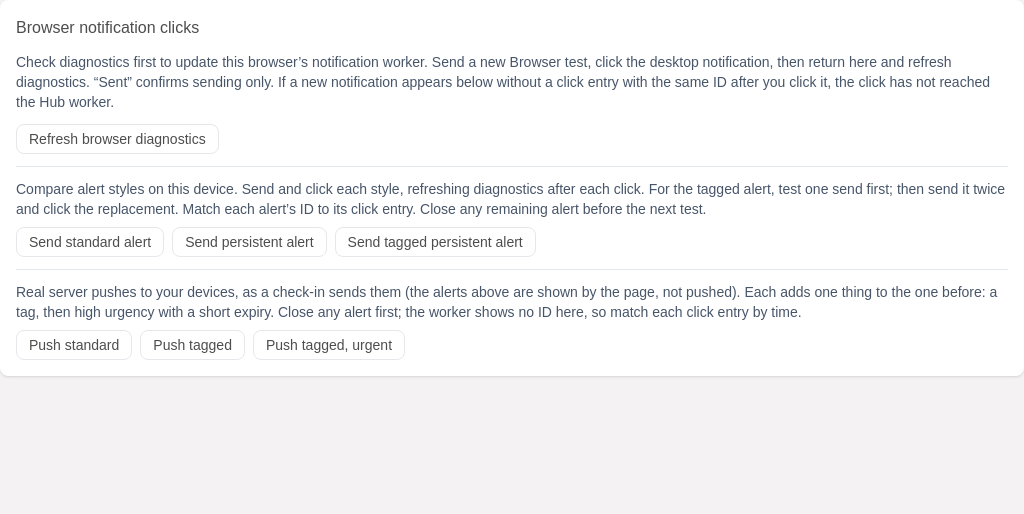
Test: BrowserPushDiagnostics › reports a failed comparison without leaving the previous alert ID on screen
The image size is (1024, 514).
What coordinates should you click on to do the following:
click the button "Send standard alert"
I would click on:
 (90, 242)
Its box is [16, 227, 164, 257].
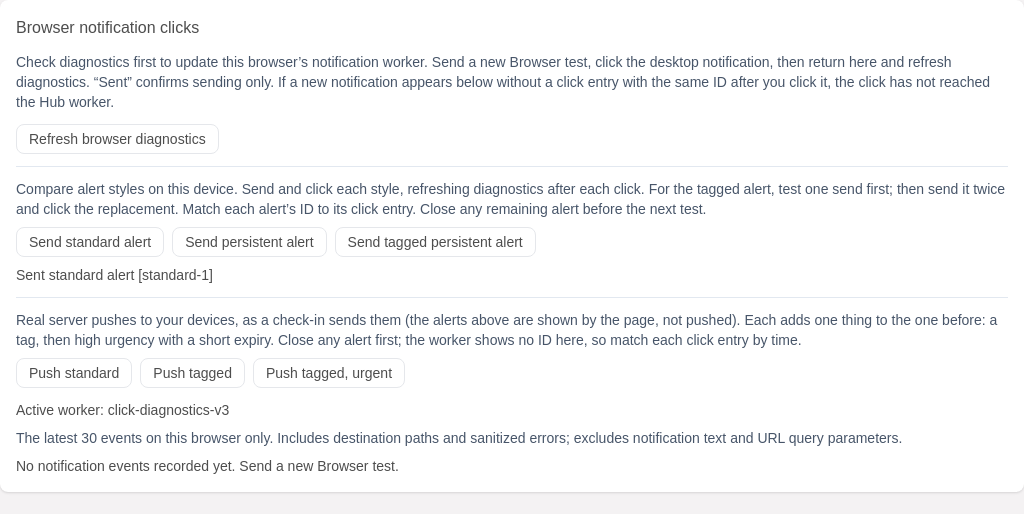
Expected: the text "Sent standard alert [standard-1]" is shown, [16, 267, 213, 283]
What coordinates should you click on to do the following:
click the button "Send persistent alert"
I would click on:
 (249, 242)
Its box is [172, 227, 327, 257].
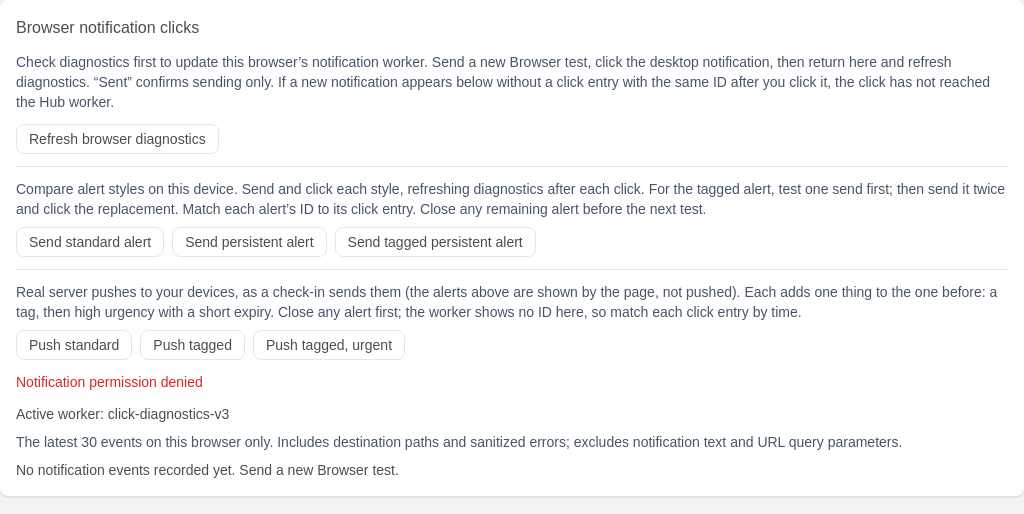
Expected: the message "Notification permission denied" is shown, [16, 374, 203, 390]
Expected: the text "Sent standard alert [standard-1]" is gone
